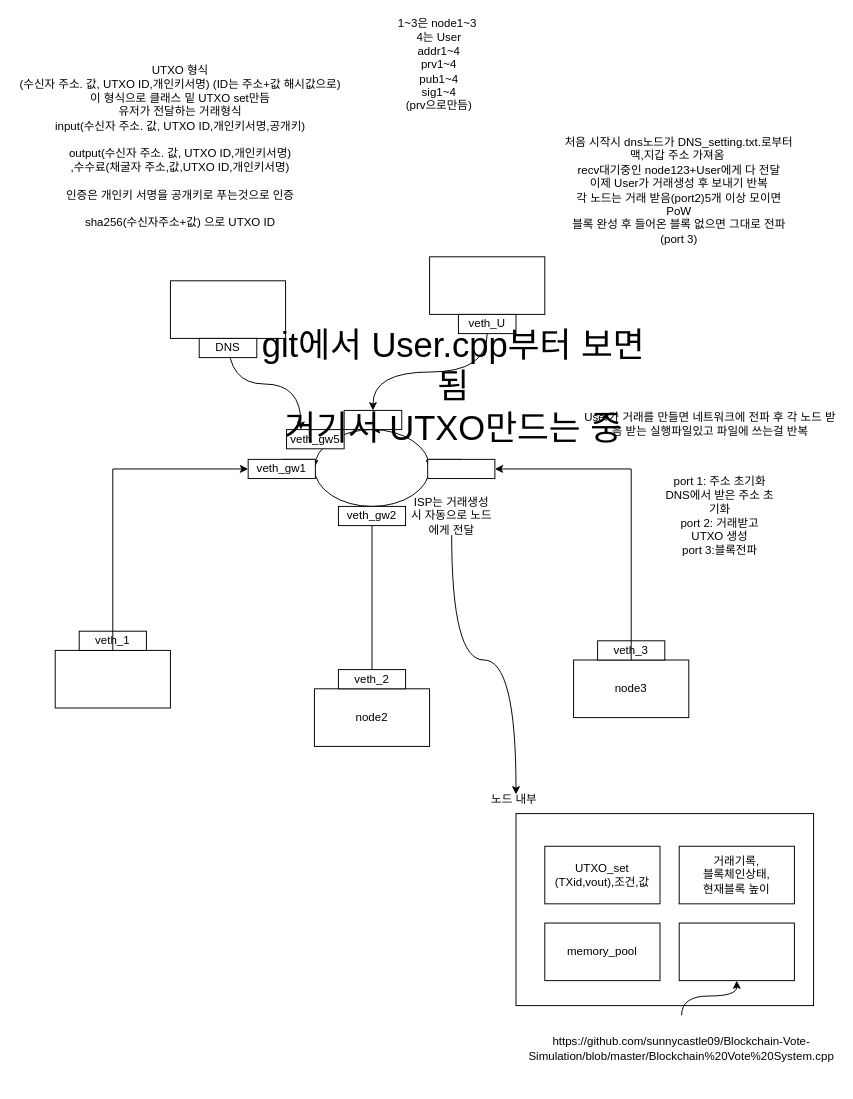
The diagram is 853 pixels wide and 1099 high, and some of its shapes have lost their labels. The shapes that lost their labels are listed below. From the top down, each one's box as (x1, y1, x2, y2) in pixels, then its label:
(429, 256, 545, 314): User
(169, 280, 286, 338): DNSnode
(343, 409, 402, 430): veth_gw4
(313, 429, 430, 506): ISP
(427, 458, 495, 479): veth_gw3
(54, 649, 170, 708): node1
(678, 922, 794, 981): Pow
